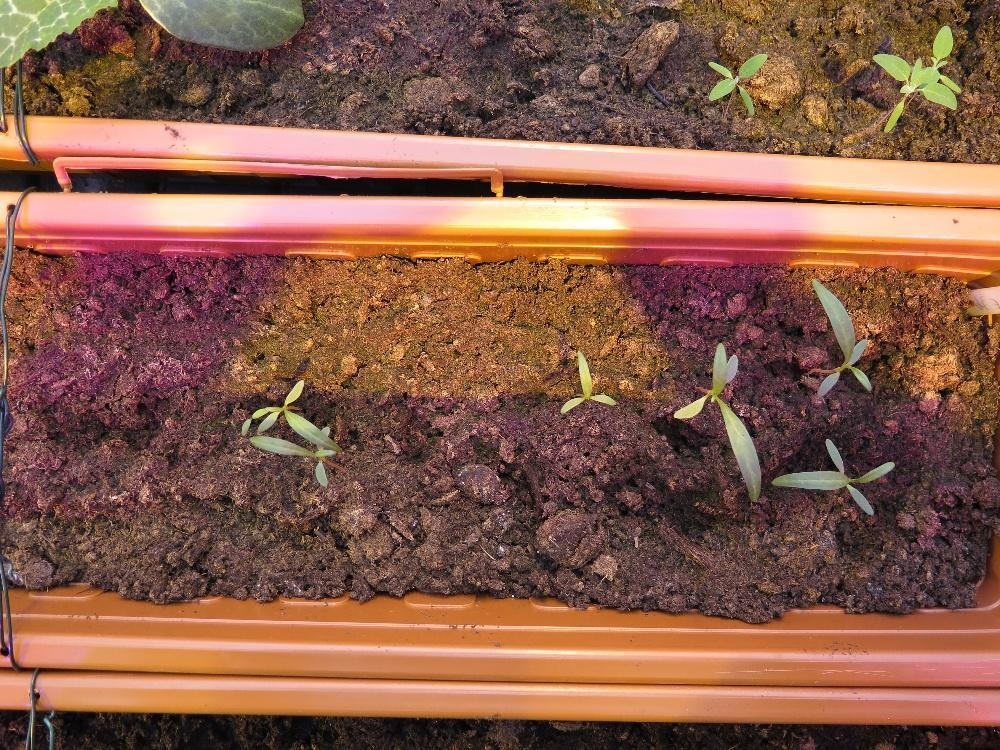weed: (668, 342, 761, 503), (769, 436, 897, 516), (809, 277, 871, 399), (706, 49, 767, 114), (558, 348, 617, 414)
